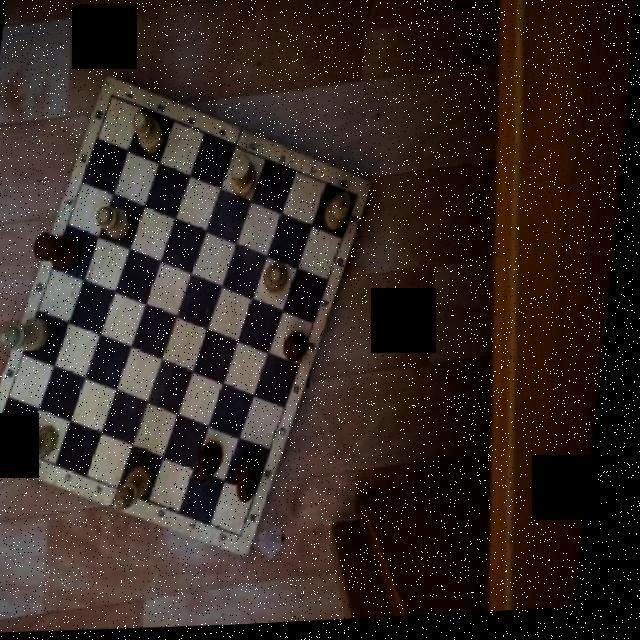chess-table-corners: (94, 74, 132, 120), (234, 516, 269, 556), (342, 179, 374, 221), (0, 416, 20, 465)
